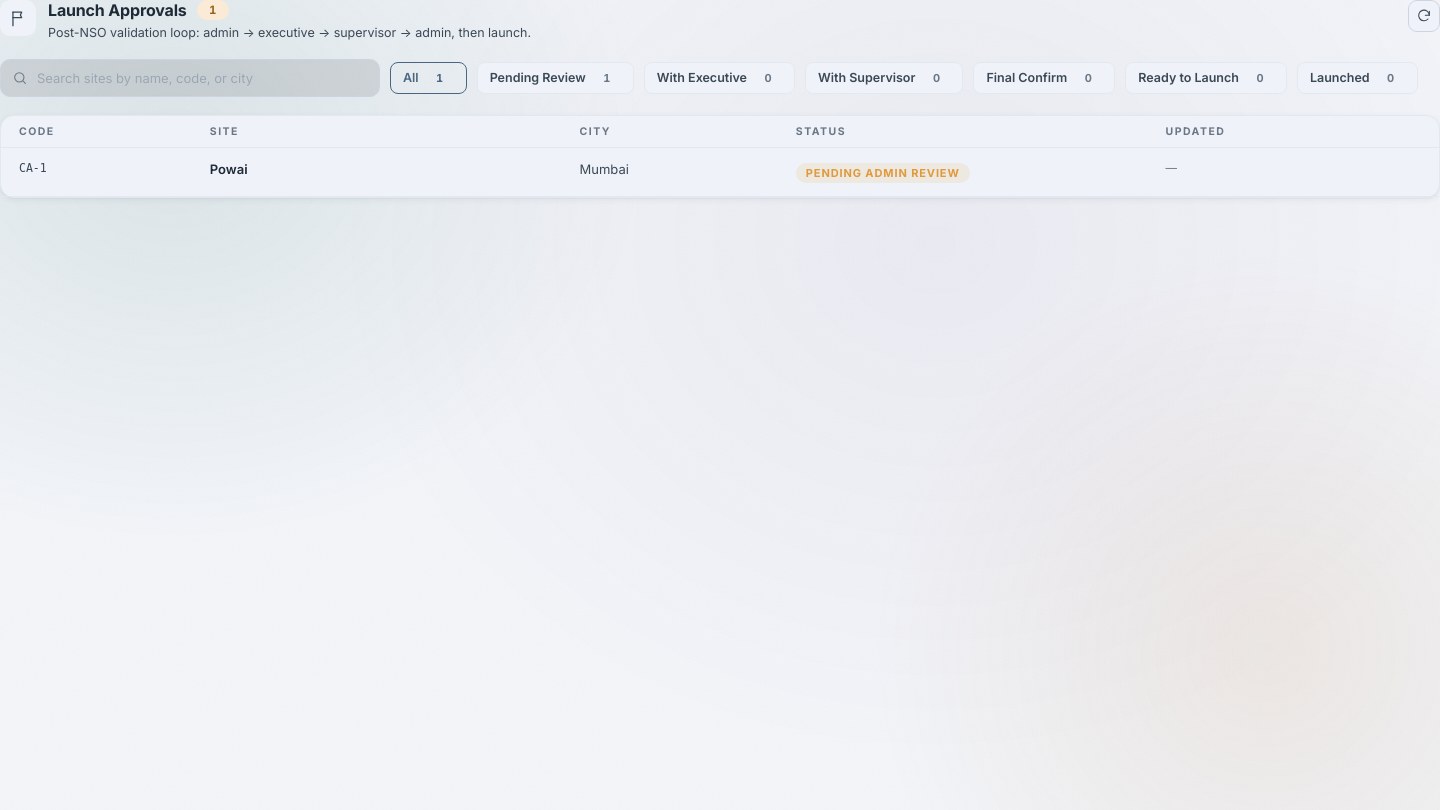
Test: LaunchApprovalTab — rent v2 › flag ON: Edit at pending_admin_review opens V2, not the V1 cards
Click the text "Powai" at (229, 169), box [210,161,248,177]
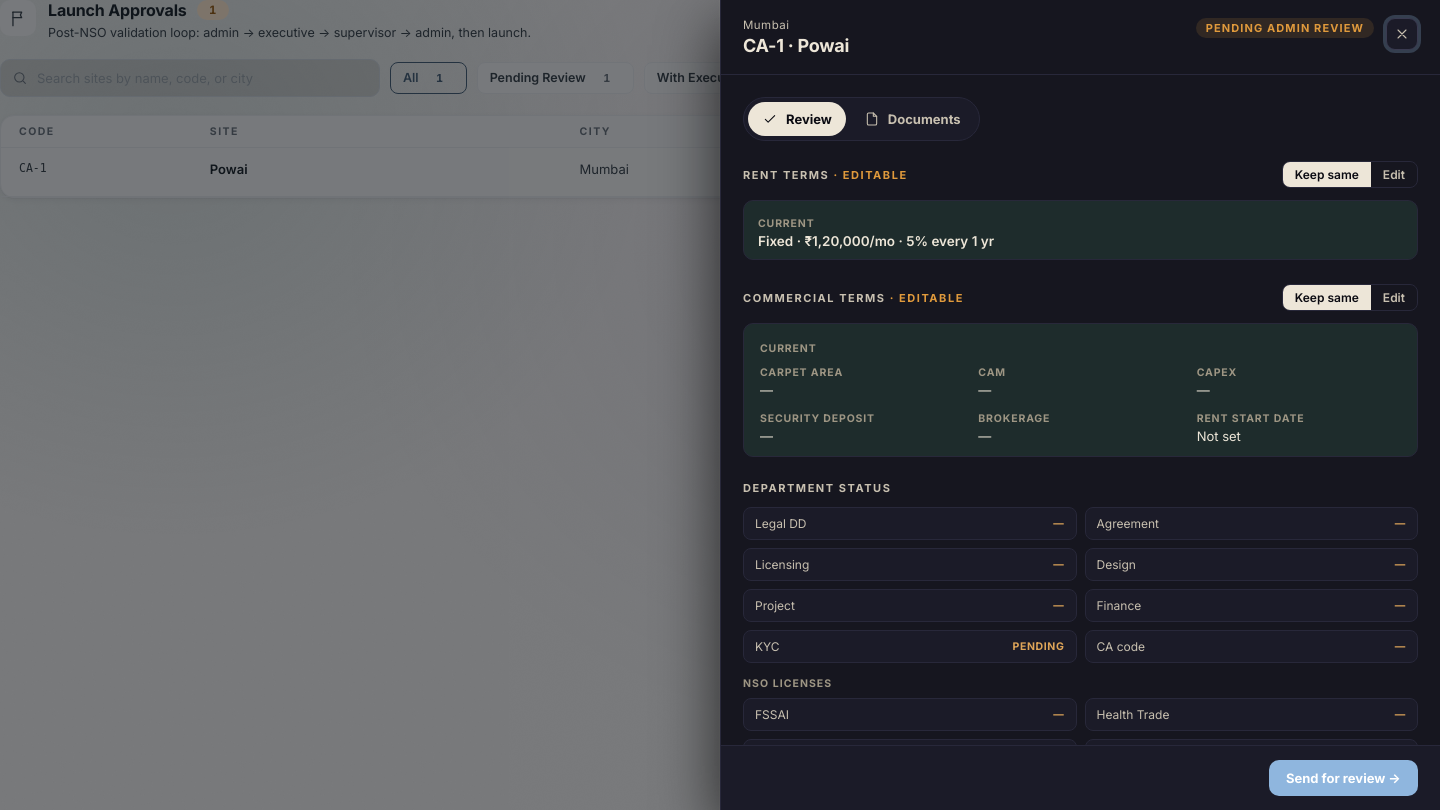
Click the button with aria-label "Edit rent terms" at (1394, 174), box [1371,162,1417,187]
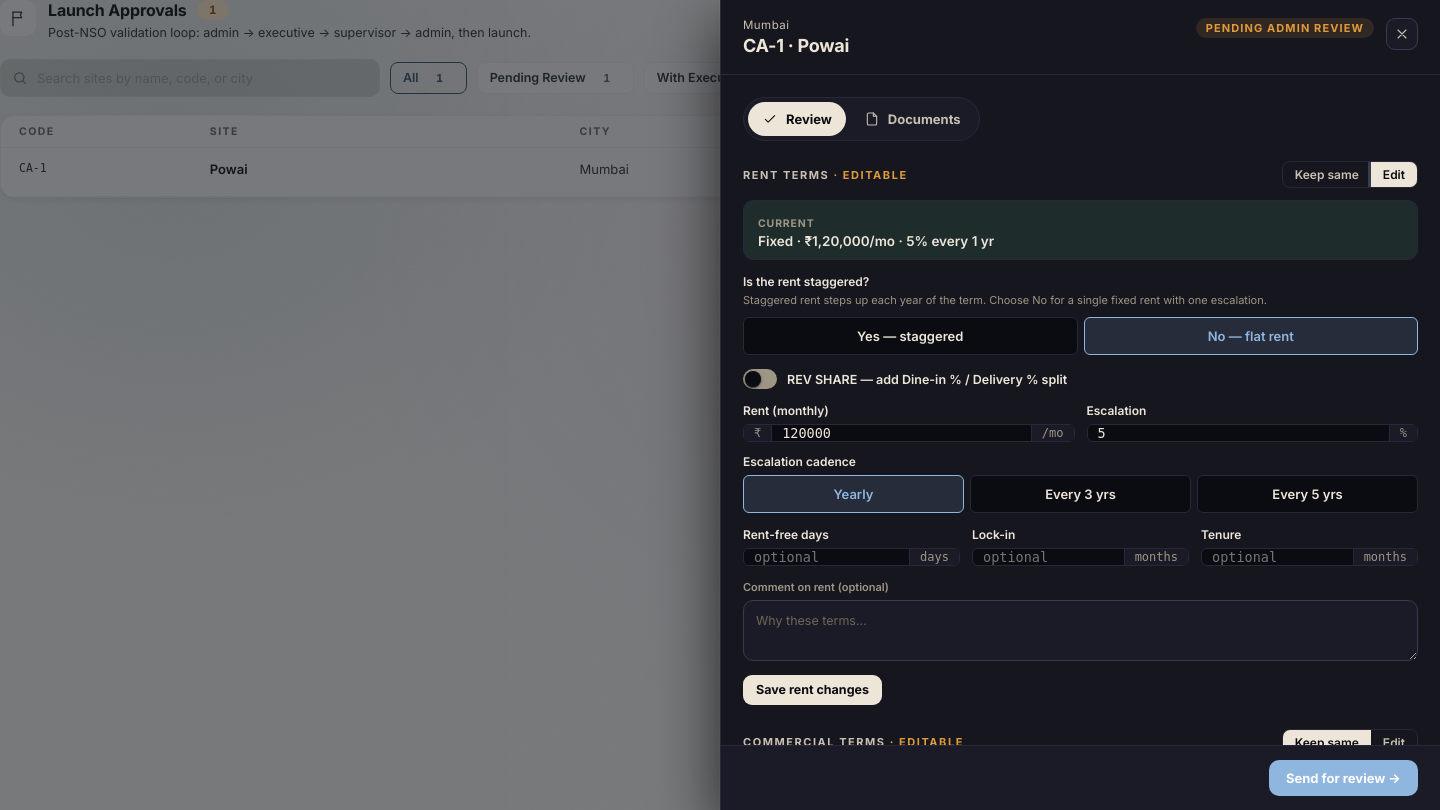
Now the text "Is the rent staggered?" is shown, box [743,274,869,289]
